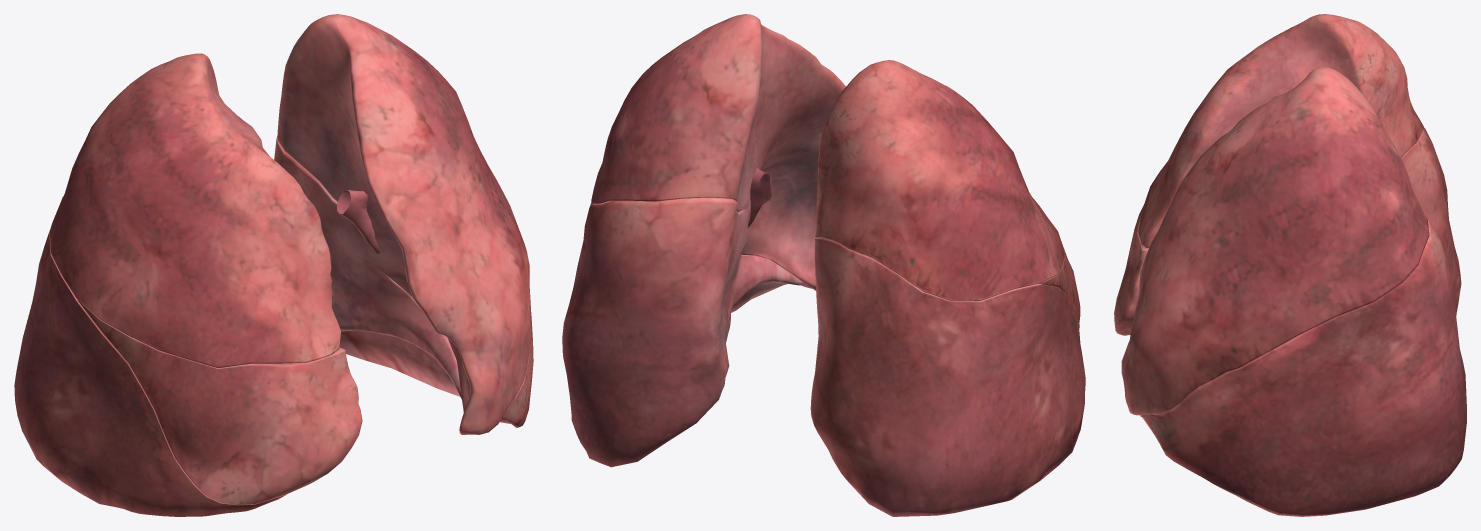
File: 2.6 Lungs.glb
The picture shows the model from 3 angles, left to right: view 1: azimuth 30°, elevation 25°; view 2: azimuth 150°, elevation 25°; view 3: azimuth 270°, elevation 25°; orthographic projection. The views are drawn at different scales.
Visible parts, largest first — view 1: R_Lung, L_Lung, Bronchial_Tree; view 2: R_Lung, L_Lung, Bronchial_Tree; view 3: L_Lung, R_Lung.
Part boxes in pixels (x1,y1,x2,y2): R_Lung: (14, 53, 362, 516); L_Lung: (274, 14, 533, 434); Bronchial_Tree: (337, 190, 380, 253); R_Lung: (810, 60, 1085, 516); L_Lung: (562, 14, 845, 467); Bronchial_Tree: (748, 168, 771, 227); L_Lung: (1121, 67, 1466, 516); R_Lung: (1114, 14, 1461, 335).
Size of the model in its own units: 0.272 by 0.2447 by 0.203.
Materials: 3 (3 with a texture image).
